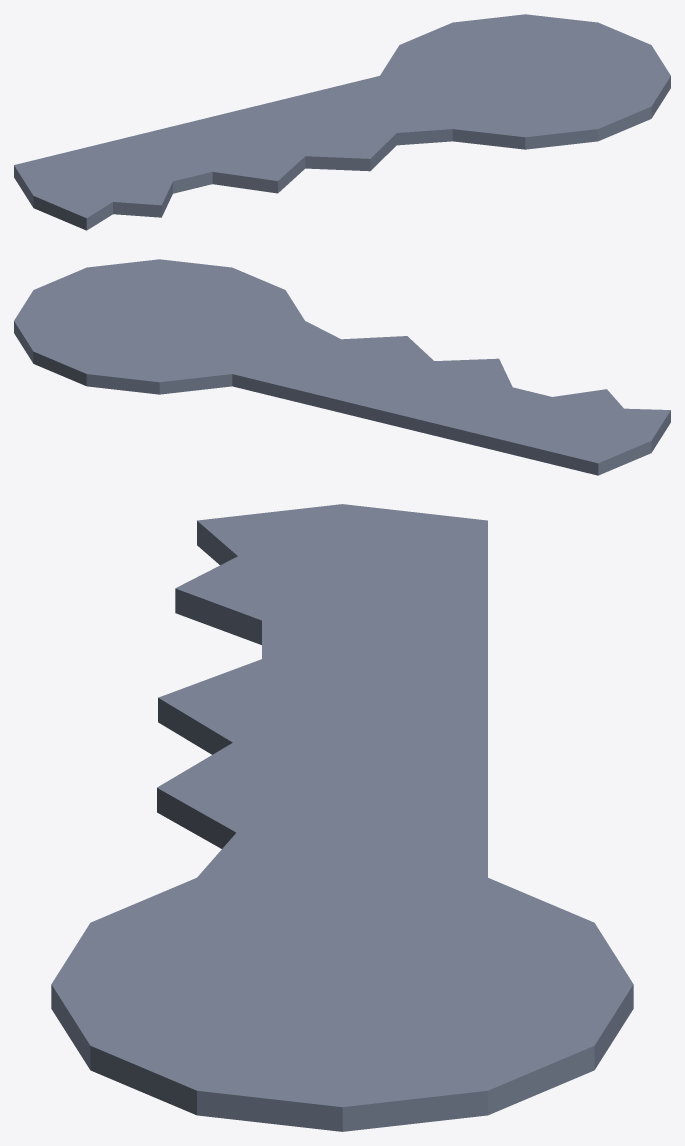
Rendered from SM_Key.fbx.
3 renders of one model, top to bottom at view 1: azimuth 30°, elevation 25°; view 2: azimuth 150°, elevation 25°; view 3: azimuth 270°, elevation 25°, orthographic. The views are drawn at different scales.
Parts seen in each view (by area): view 1: Key; view 2: Key; view 3: Key.
Boxes of the visible parts, x1=… form: Key: x1=14, y1=14, x2=670, y2=230; Key: x1=14, y1=259, x2=670, y2=475; Key: x1=51, y1=504, x2=633, y2=1131.
Size of the model in its own units: 16.79 by 0.3205 by 6.85.
